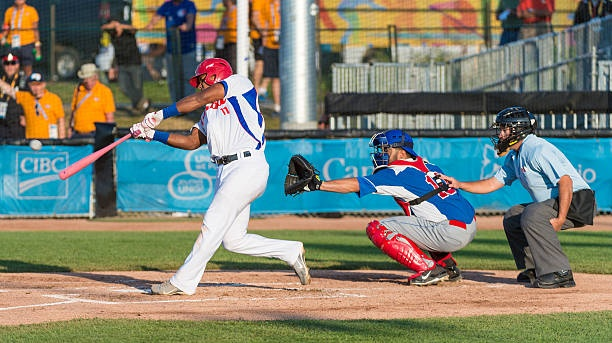bita: (54, 127, 142, 181)
